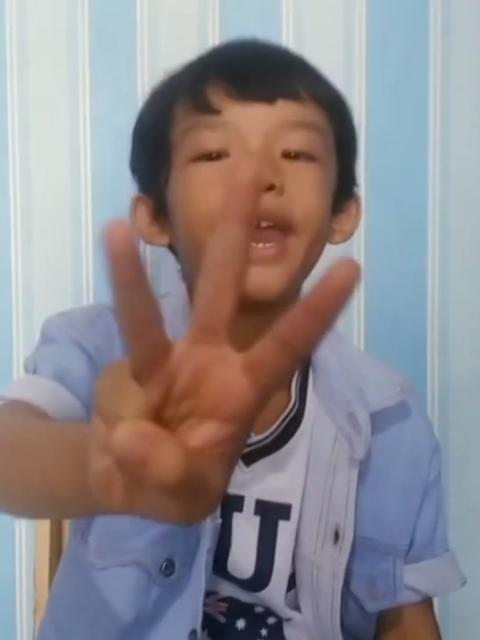W: (95, 163, 363, 527)
